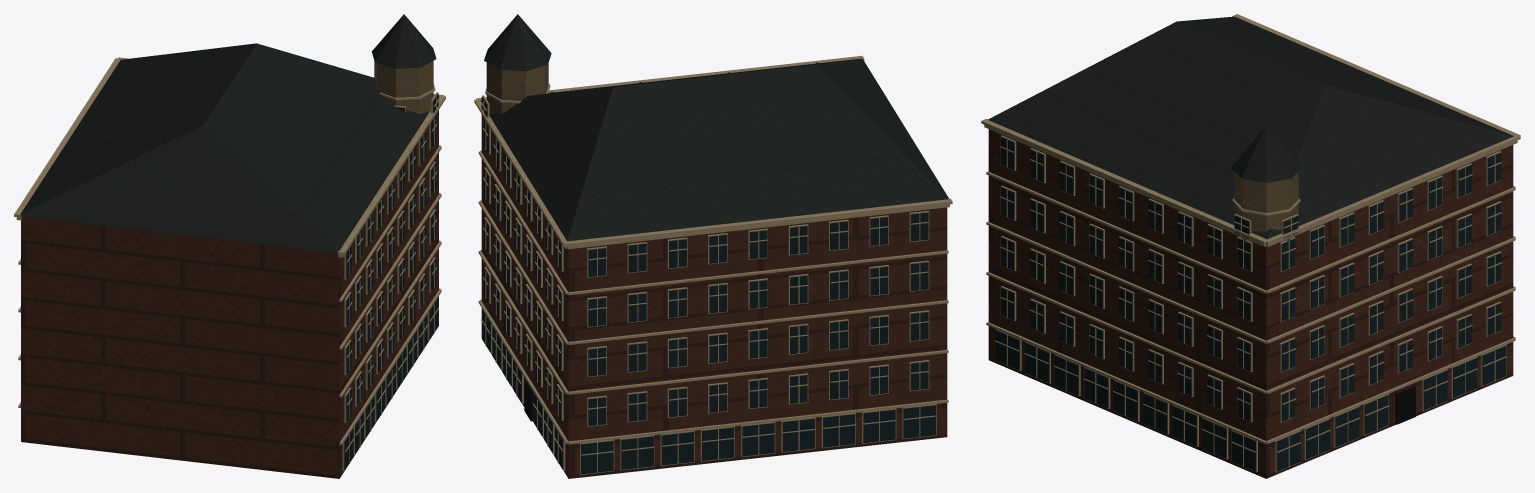
3 renders of one model, left to right at view 1: azimuth 30°, elevation 25°; view 2: azimuth 150°, elevation 25°; view 3: azimuth 270°, elevation 25°, orthographic. The views are drawn at different scales.
Visible parts, largest first — view 1: hotel-weimar-4, hotel-weimar-3, hotel-weimar-1, hotel-weimar-2, hotel-weimar-0; view 2: hotel-weimar-4, hotel-weimar-3, hotel-weimar-2, hotel-weimar-1, hotel-weimar-0; view 3: hotel-weimar-4, hotel-weimar-3, hotel-weimar-2, hotel-weimar-1, hotel-weimar-0, hotel-weimar-5.
Boxes of the visible parts, bbox=[...] form: hotel-weimar-4: bbox=[21, 110, 438, 478]; hotel-weimar-3: bbox=[20, 14, 439, 252]; hotel-weimar-1: bbox=[14, 57, 445, 471]; hotel-weimar-2: bbox=[344, 93, 438, 469]; hotel-weimar-0: bbox=[374, 61, 433, 118]; hotel-weimar-4: bbox=[481, 114, 947, 478]; hotel-weimar-3: bbox=[480, 14, 948, 241]; hotel-weimar-2: bbox=[481, 96, 935, 474]; hotel-weimar-1: bbox=[474, 55, 952, 474]; hotel-weimar-0: bbox=[486, 62, 548, 122]; hotel-weimar-4: bbox=[988, 129, 1513, 478]; hotel-weimar-3: bbox=[988, 16, 1513, 239]; hotel-weimar-2: bbox=[995, 137, 1506, 471]; hotel-weimar-1: bbox=[981, 14, 1520, 472]; hotel-weimar-0: bbox=[1234, 171, 1298, 241]; hotel-weimar-5: bbox=[1395, 386, 1415, 424].
Bounding box in the file's own units: 45.08 × 31 × 45.05.
6 materials, 6 textured.
